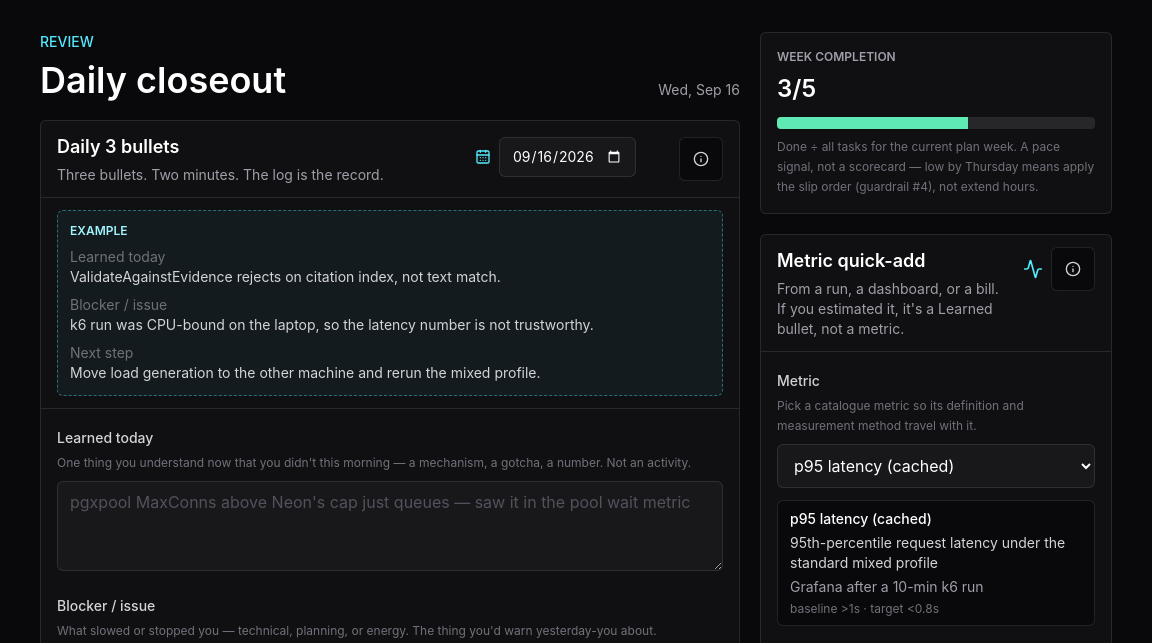
Test: ReviewPage › toggles field guidance with aria-expanded
Click the button named "Daily review guidance" at (701, 159), box [679,137,723,181]
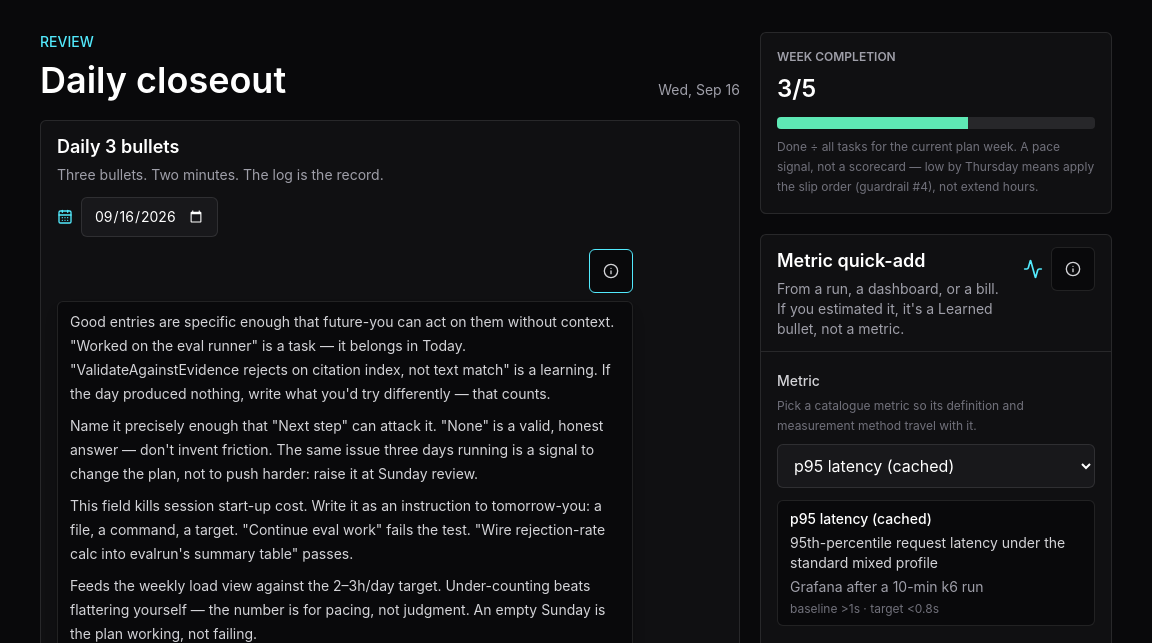
Now the button named "Daily review guidance" is expanded, box [589,249,633,293]
Now the text "Good entries are specific enough" is shown, box [70,313,614,402]
